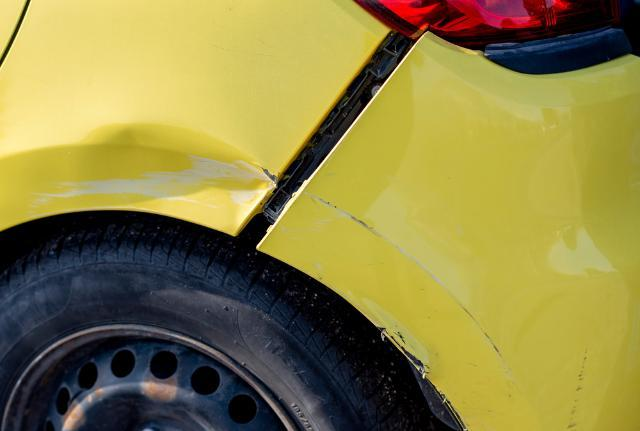dent: (71, 125, 270, 234)
dislocated part: (221, 26, 425, 258)
scratch: (306, 190, 507, 359), (565, 345, 591, 431)
